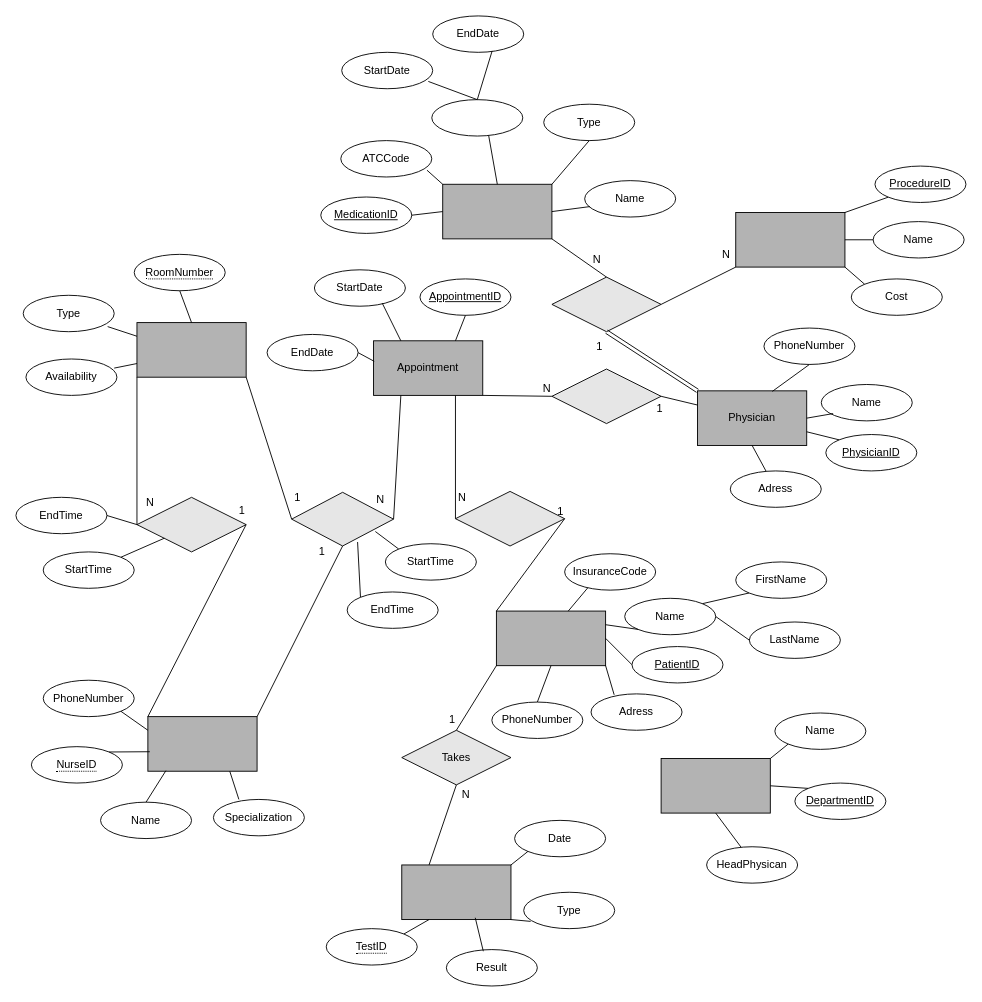
The diagram is 982 pixels wide and 1002 high, and some of its shapes have lost their labels. Here are the shapes that lost their labels. From the top down, the centre of each, then its label:
At point (477, 117): "Description".
At point (497, 211): "Medication".
At point (790, 239): "Procedure".
At point (606, 304): "Prescribes".
At point (191, 349): "Room".
At point (606, 396): "Makes".
At point (191, 524): "OnCall".
At point (342, 518): "AssignedTo".
At point (510, 518): "Receives".
At point (550, 638): "Patient".
At point (202, 743): "Nurse".
At point (715, 785): "Department".
At point (456, 892): "Test".
